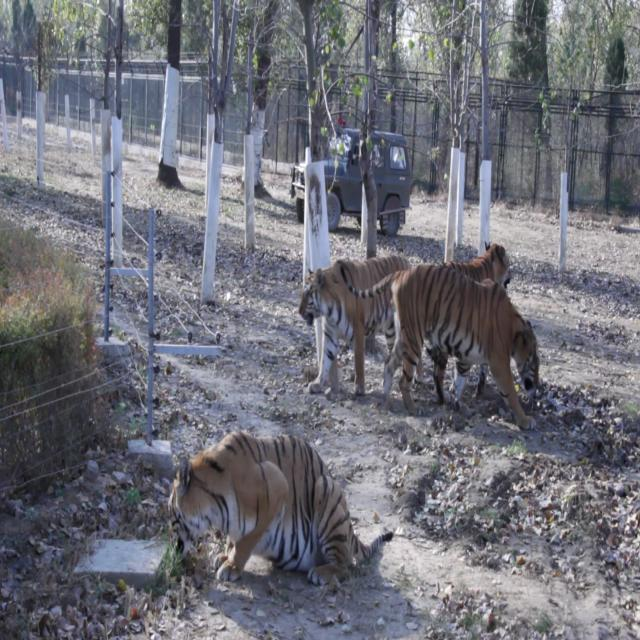Tiger: (352, 257, 545, 433), (295, 226, 414, 401), (432, 229, 530, 294)
